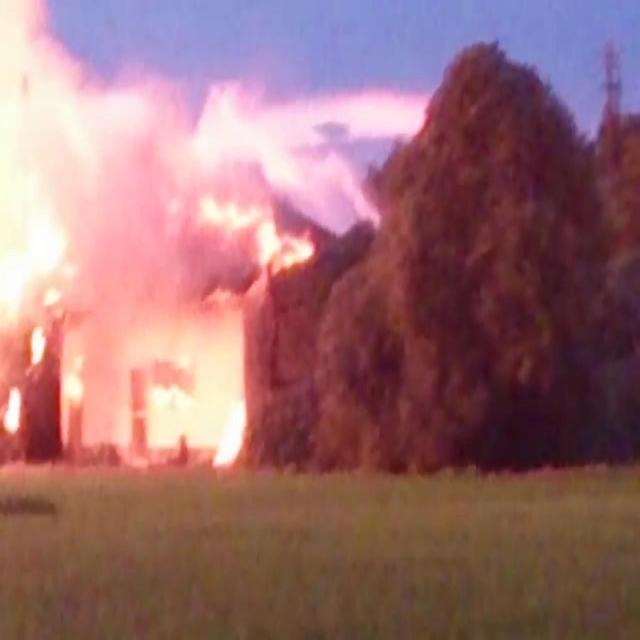Fire: (2, 6, 78, 322), (203, 195, 313, 268), (210, 397, 246, 472), (58, 371, 86, 404), (4, 386, 22, 436), (29, 326, 46, 366)
